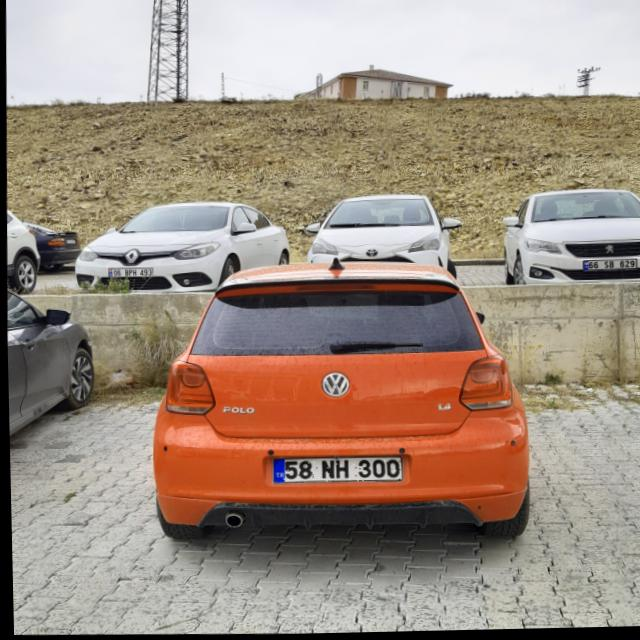license_plate: (272, 458, 400, 484)
